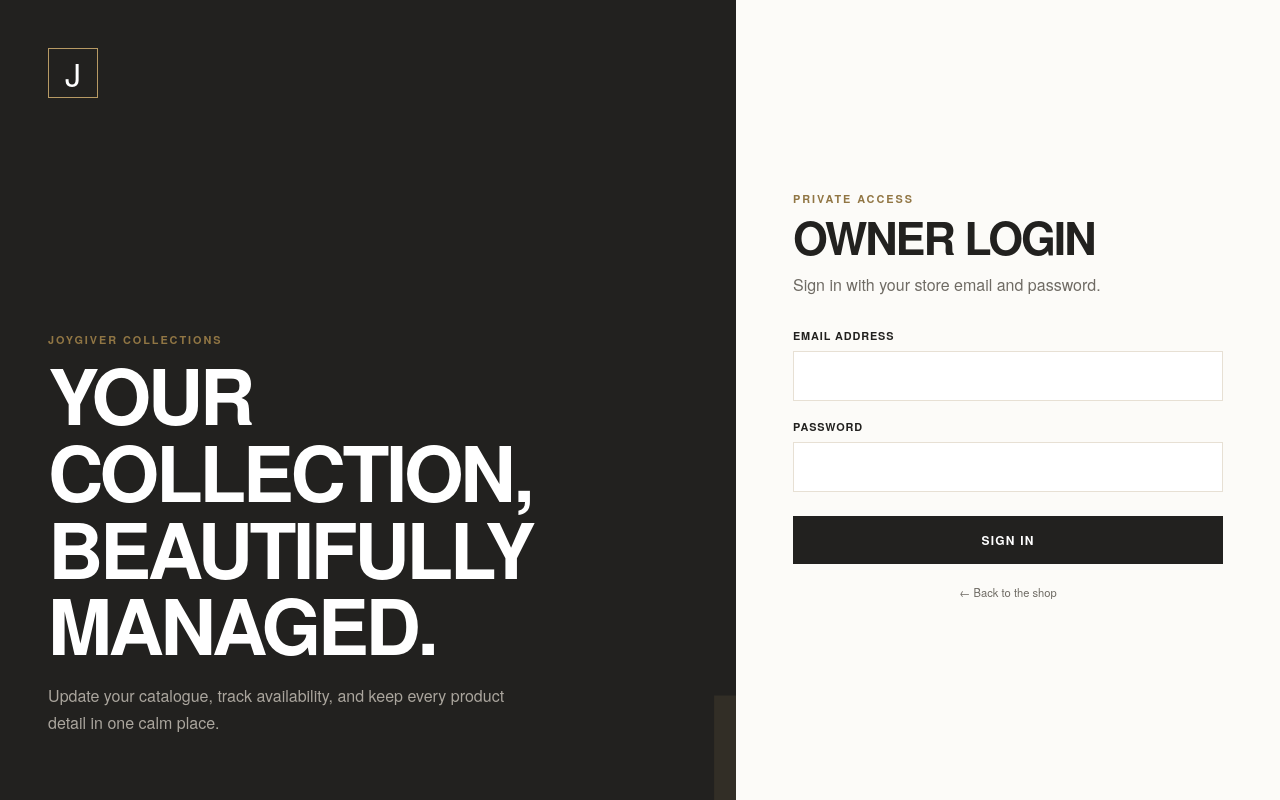
Test: shows a generic message for invalid credentials
Type "owner@example.com" into the field labelled "Email address" at coordinates (1008, 376), box 793,351 -> 1223,401
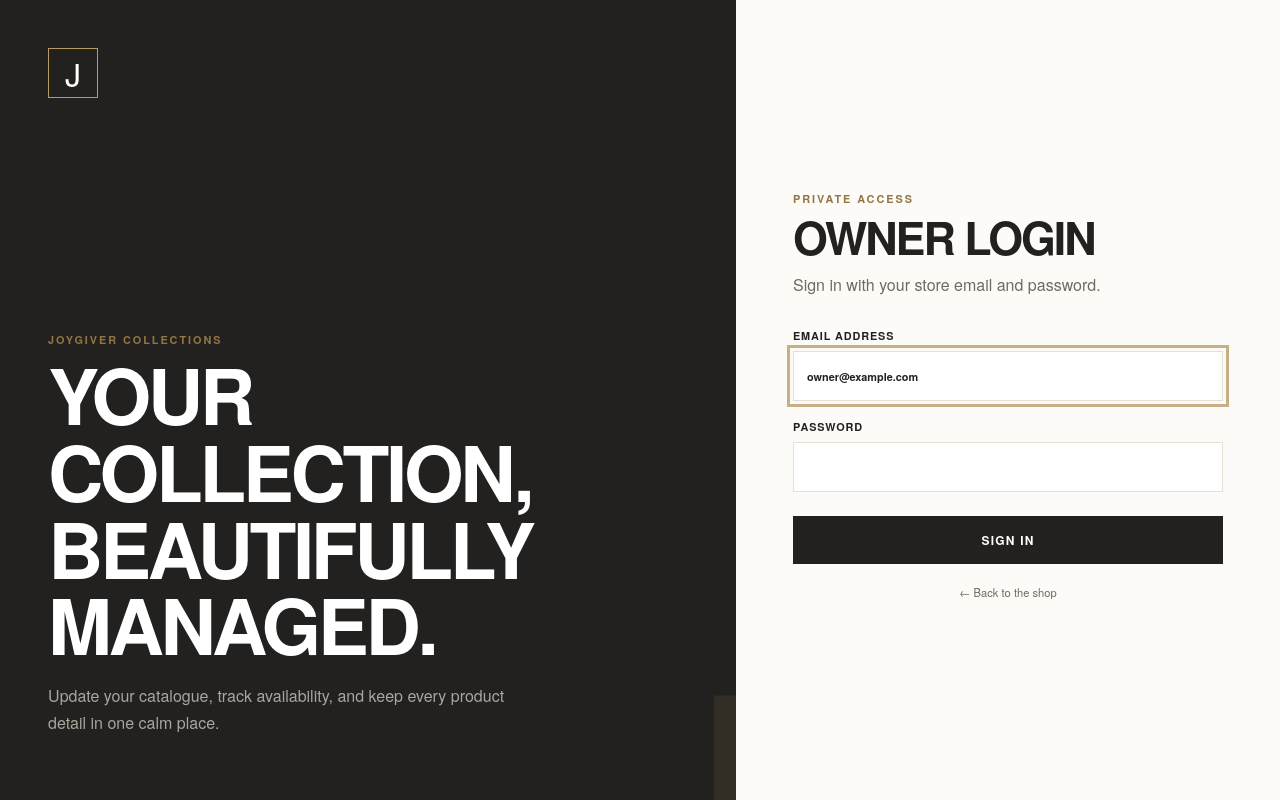
Type "incorrect password" into the password field labelled "Password" at coordinates (1008, 467), box 793,442 -> 1223,492
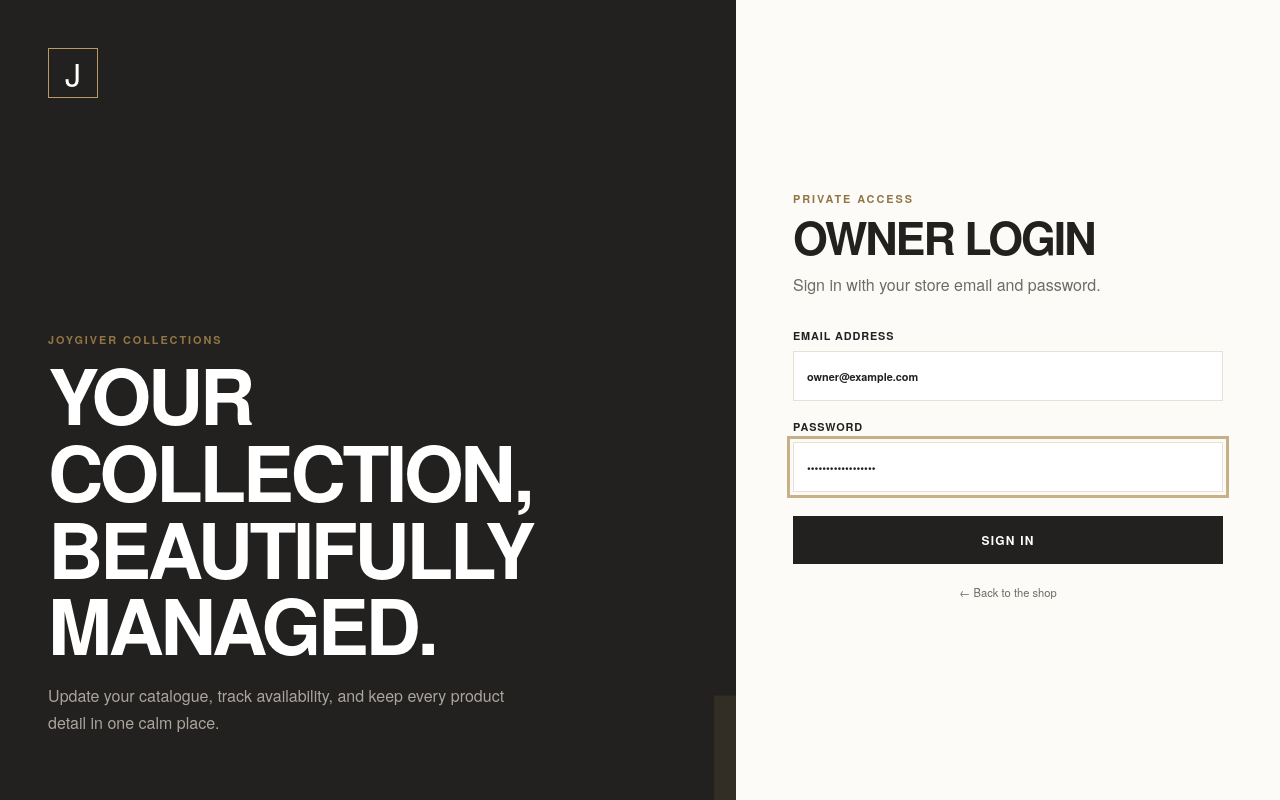
Click the button "Sign in" at coordinates (1008, 540), box 793,516 -> 1223,564
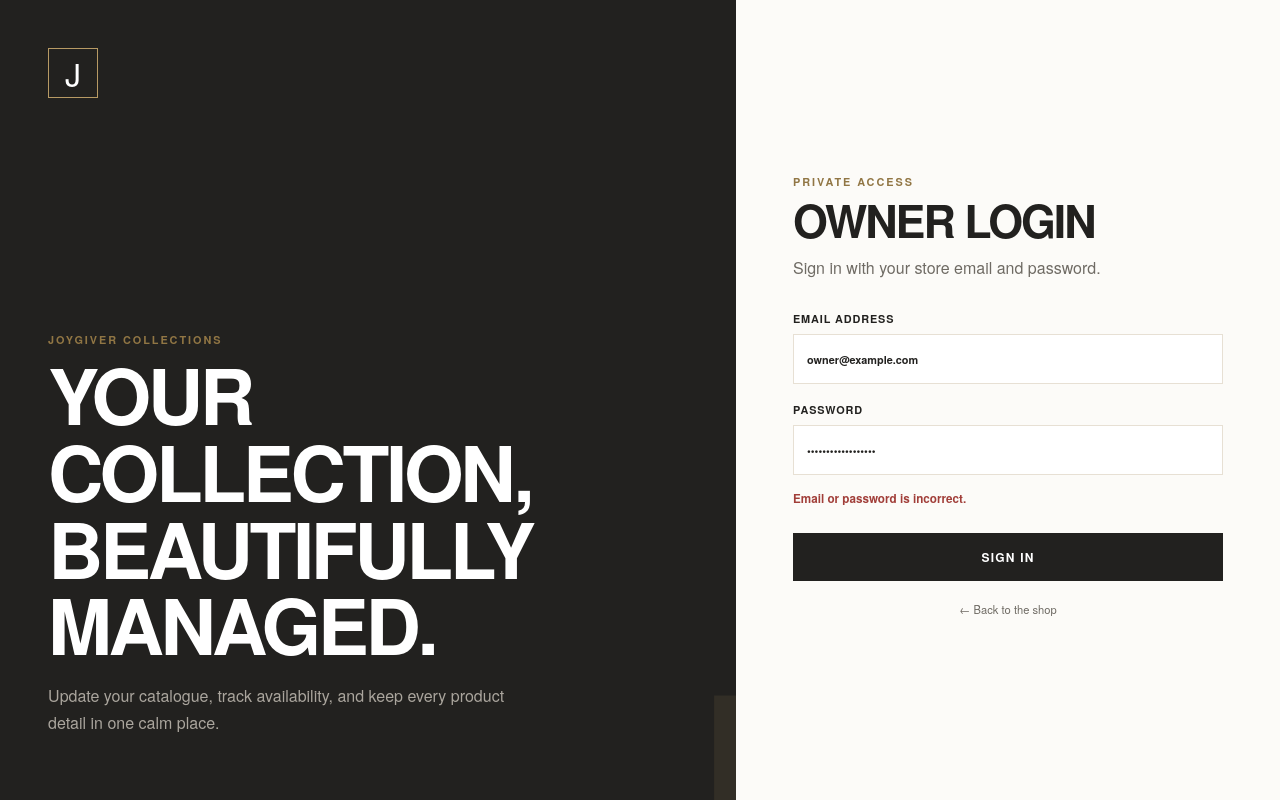
Now the text "Email or password is incorrect." is shown, box 793,490 -> 966,508
